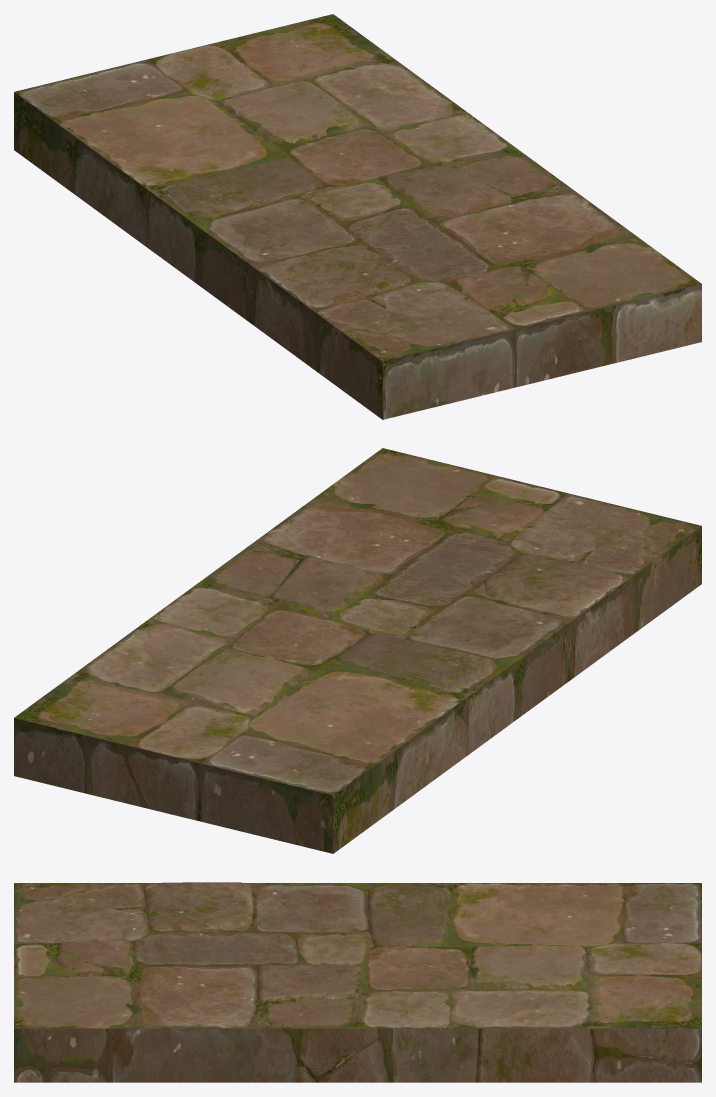
3 renders of one model, top to bottom at view 1: azimuth 30°, elevation 25°; view 2: azimuth 150°, elevation 25°; view 3: azimuth 270°, elevation 25°, orthographic. The views are drawn at different scales.
Parts seen in each view (by area): view 1: SM_Human_Ruins_StoneFloor_03_LOD0; view 2: SM_Human_Ruins_StoneFloor_03_LOD0; view 3: SM_Human_Ruins_StoneFloor_03_LOD0.
Boxes of the visible parts, x1=… form: SM_Human_Ruins_StoneFloor_03_LOD0: x1=14, y1=14, x2=701, y2=419; SM_Human_Ruins_StoneFloor_03_LOD0: x1=14, y1=448, x2=701, y2=853; SM_Human_Ruins_StoneFloor_03_LOD0: x1=14, y1=882, x2=701, y2=1082.
Bounding box in the file's own units: 2 × 0.3733 × 4.
1 material, 1 textured.
